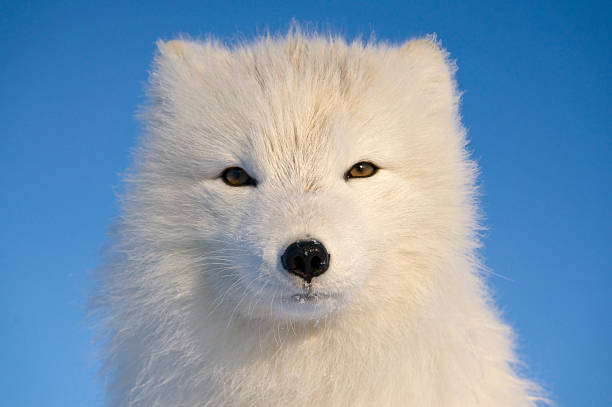arcticfox: (179, 58, 445, 389)
